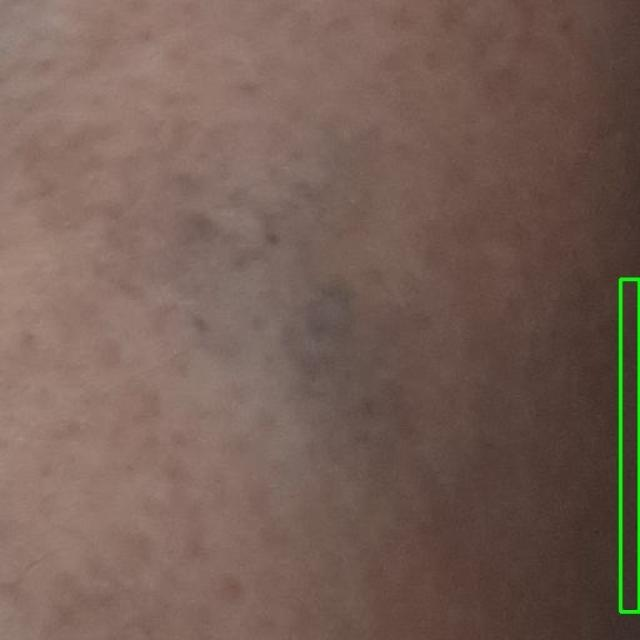Eczema: (620, 279, 639, 611)
